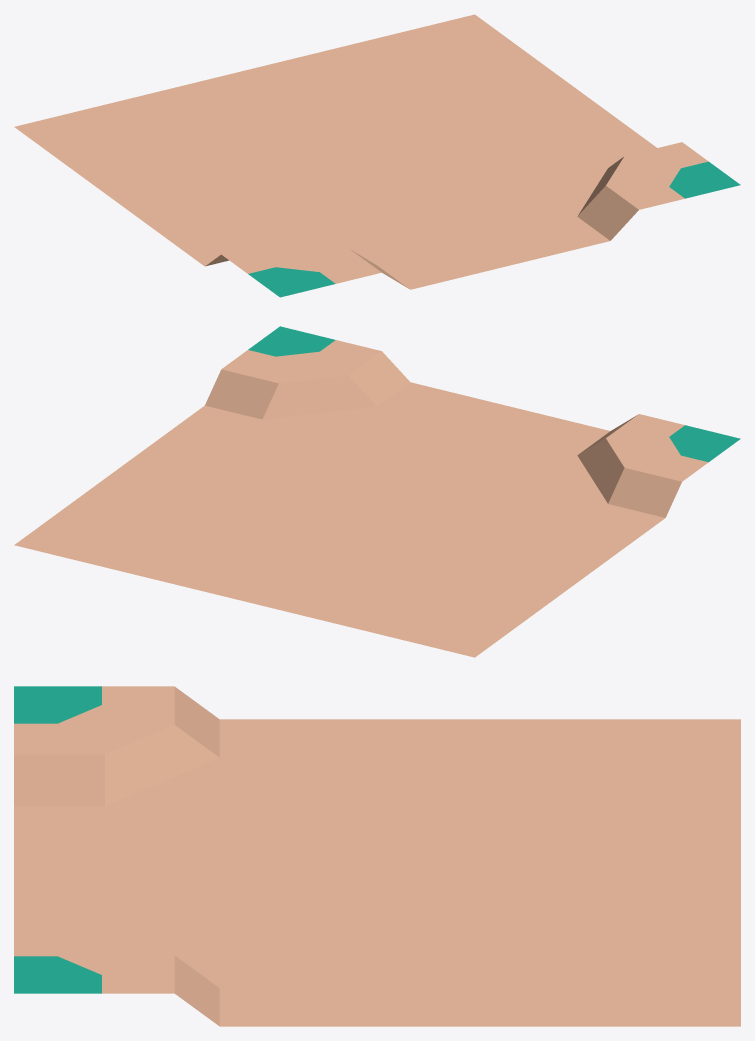
File: ground_pathSideOpen.glb
3 views of the same model, one above another, from view 1: azimuth 30°, elevation 25°; view 2: azimuth 150°, elevation 25°; view 3: azimuth 270°, elevation 25° (orthographic). The views are drawn at different scales.
Visible parts, largest first — view 1: ground_pathSideOpen; view 2: ground_pathSideOpen; view 3: ground_pathSideOpen.
Boxes of the visible parts, bbox=[...] form: ground_pathSideOpen: bbox=[14, 14, 740, 297]; ground_pathSideOpen: bbox=[14, 326, 740, 657]; ground_pathSideOpen: bbox=[14, 686, 740, 1026].
Size of the model in its own units: 1.16 by 0.0581 by 1.16.
